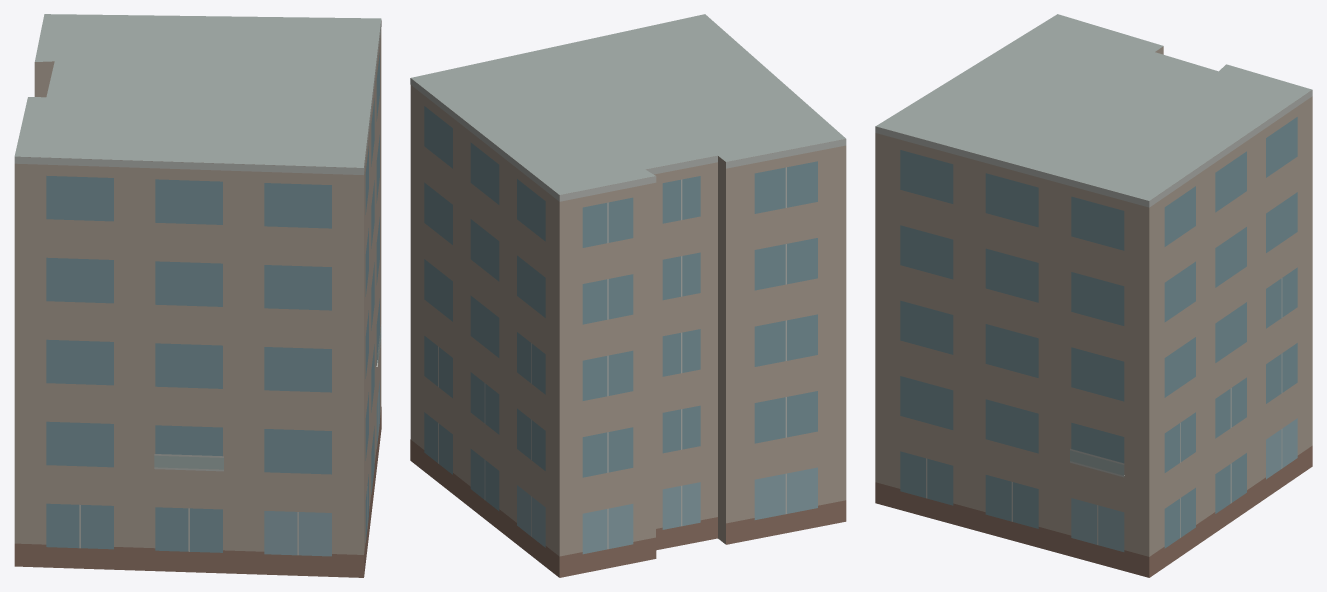
File: survey-upis-32830763.glb
The picture shows the model from 3 angles, left to right: view 1: azimuth 30°, elevation 25°; view 2: azimuth 150°, elevation 25°; view 3: azimuth 270°, elevation 25°; orthographic projection. The views are drawn at different scales.
Visible parts, largest first — view 1: survey-upis-32830763.tmp; view 2: survey-upis-32830763.tmp; view 3: survey-upis-32830763.tmp.
Part boxes in pixels (x1,y1,x2,y2): survey-upis-32830763.tmp: (14,14,381,577); survey-upis-32830763.tmp: (410,14,846,577); survey-upis-32830763.tmp: (875,14,1312,577).
Size of the model in its own units: 14.91 by 14 by 14.72.
